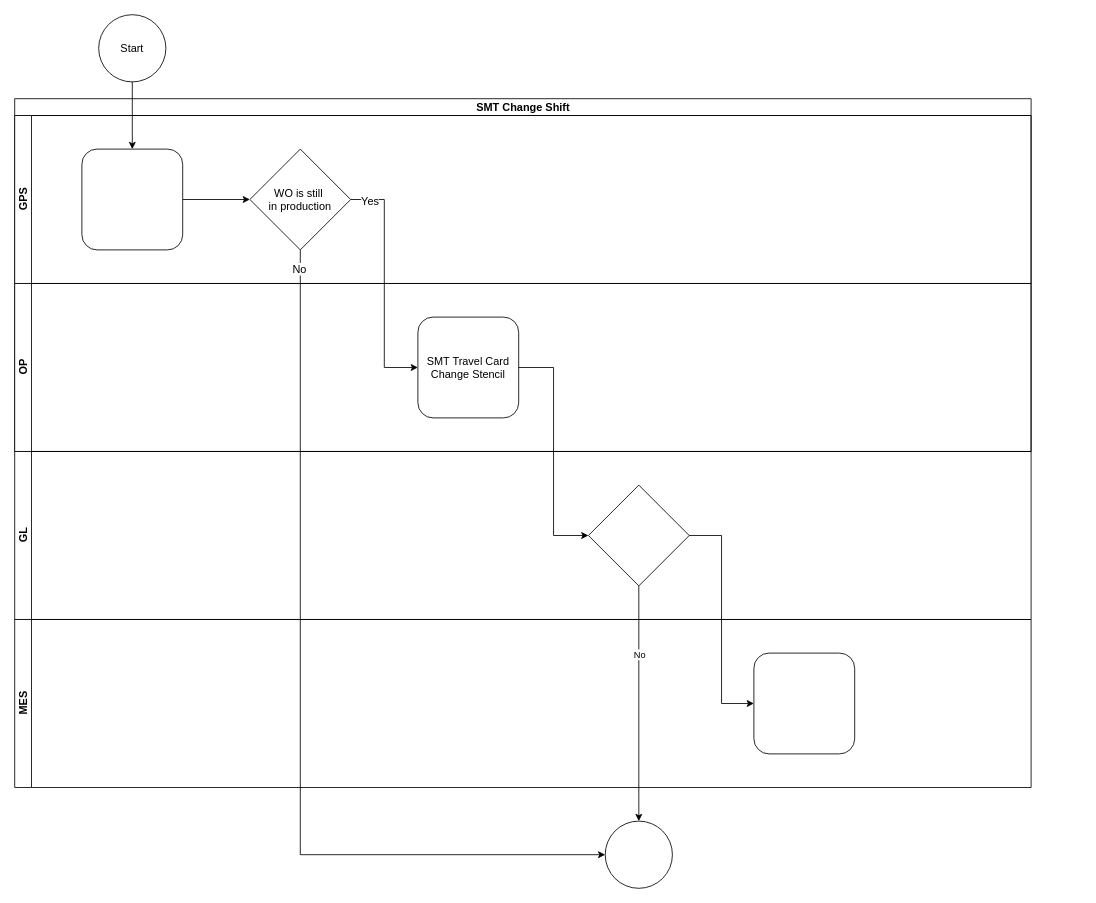
This 1096x903 diagram has some shape labels left out. The shapes that lost their labels are listed below. From the top down, each one's centre as x and y in pixels, then its label:
point 132,199: Change Shift Every 8 Hours
point 638,535: Verify SMT Travel Card
point 804,703: 7 Auto Attach Stencil & Support Fixture
point 638,854: End
